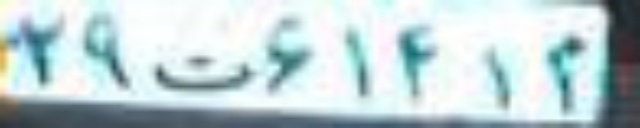1: (539, 43, 579, 113), (480, 39, 519, 109), (344, 25, 375, 98)
2: (20, 10, 74, 87)
4: (393, 21, 452, 99)
6: (257, 17, 317, 93)
9: (81, 7, 136, 91)
te: (152, 47, 255, 90)
